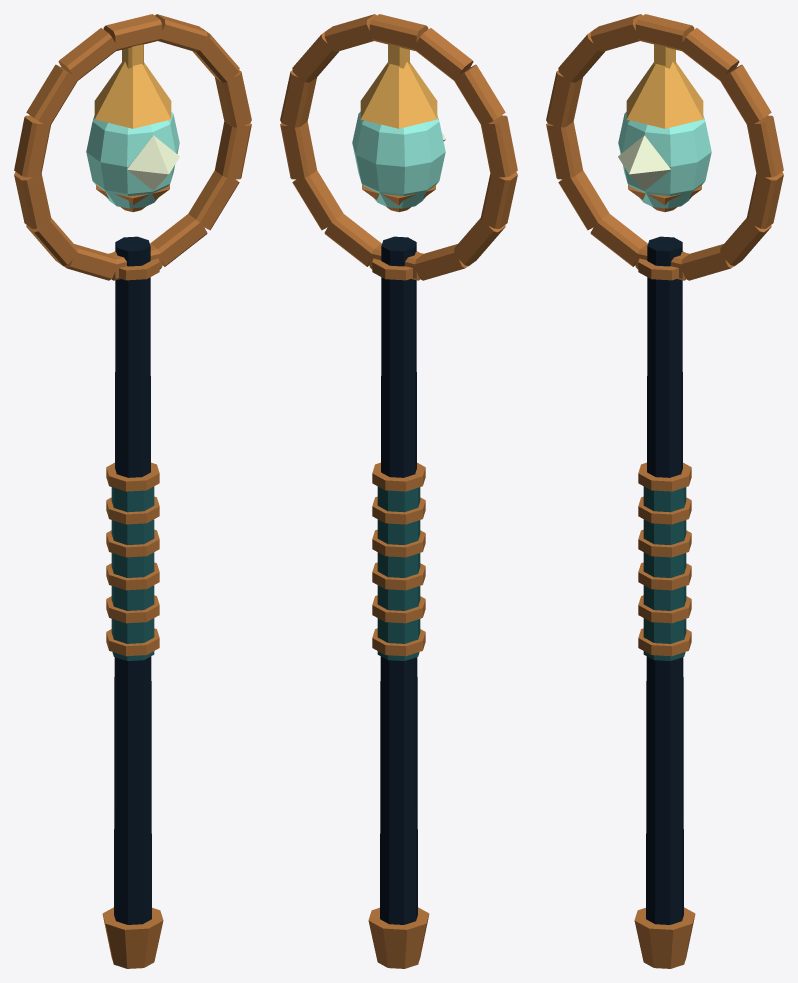
Rendered from prop-mage-lantern.glb.
3 renders of one model, left to right at view 1: azimuth 30°, elevation 25°; view 2: azimuth 150°, elevation 25°; view 3: azimuth 330°, elevation 25°, orthographic.
Visible parts, largest first — view 1: prop-mage-lantern.001; view 2: prop-mage-lantern.001; view 3: prop-mage-lantern.001.
Part boxes in pixels (left/top/right/bottom): prop-mage-lantern.001: left=14, top=14, right=251, bottom=968; prop-mage-lantern.001: left=280, top=14, right=517, bottom=968; prop-mage-lantern.001: left=546, top=14, right=783, bottom=968.
Size of the model in its own units: 0.3364 by 1.31 by 0.149.
1 material, 1 textured.
